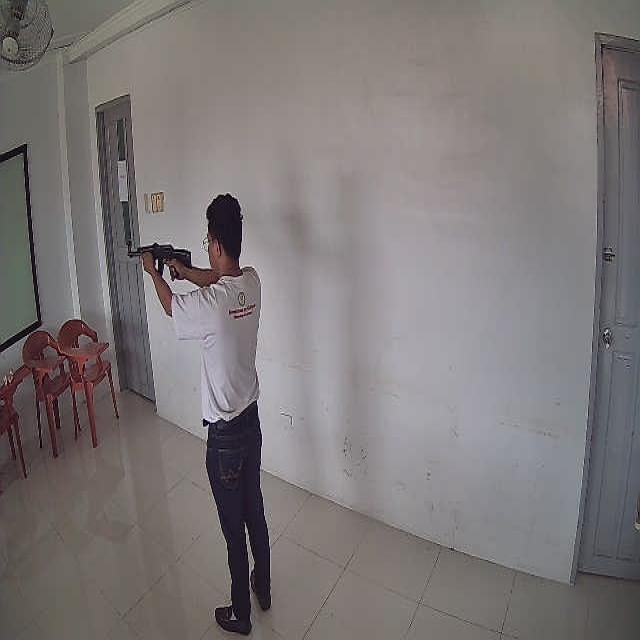rifle: (127, 243, 190, 280)
